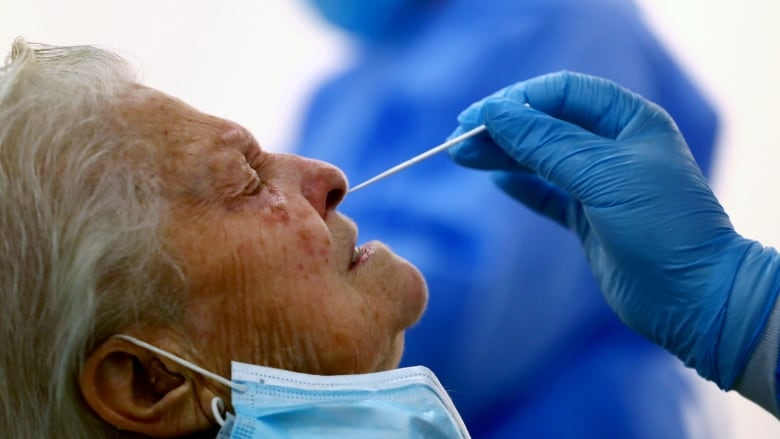Gloves: (440, 64, 780, 410)
mask_weared_incorrect: (184, 115, 461, 439)
